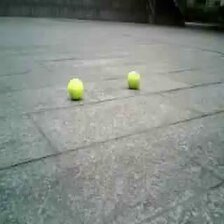tennis: (67, 78, 84, 99), (127, 70, 141, 88)
